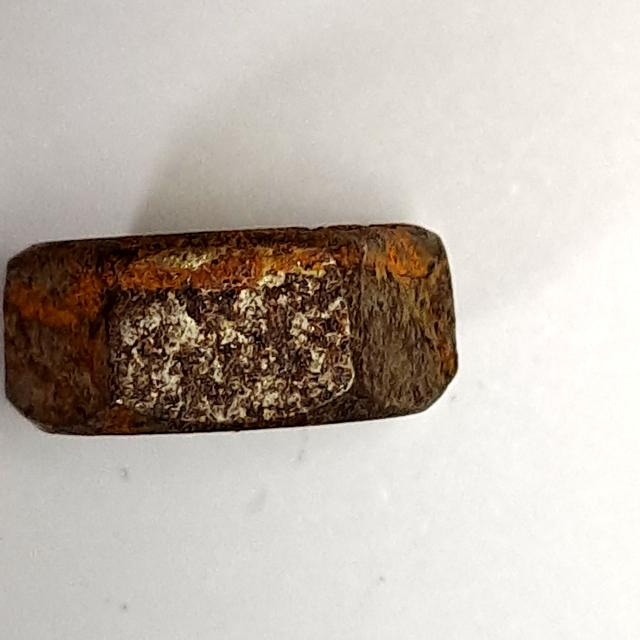Side_Rust: (1, 205, 474, 455)
